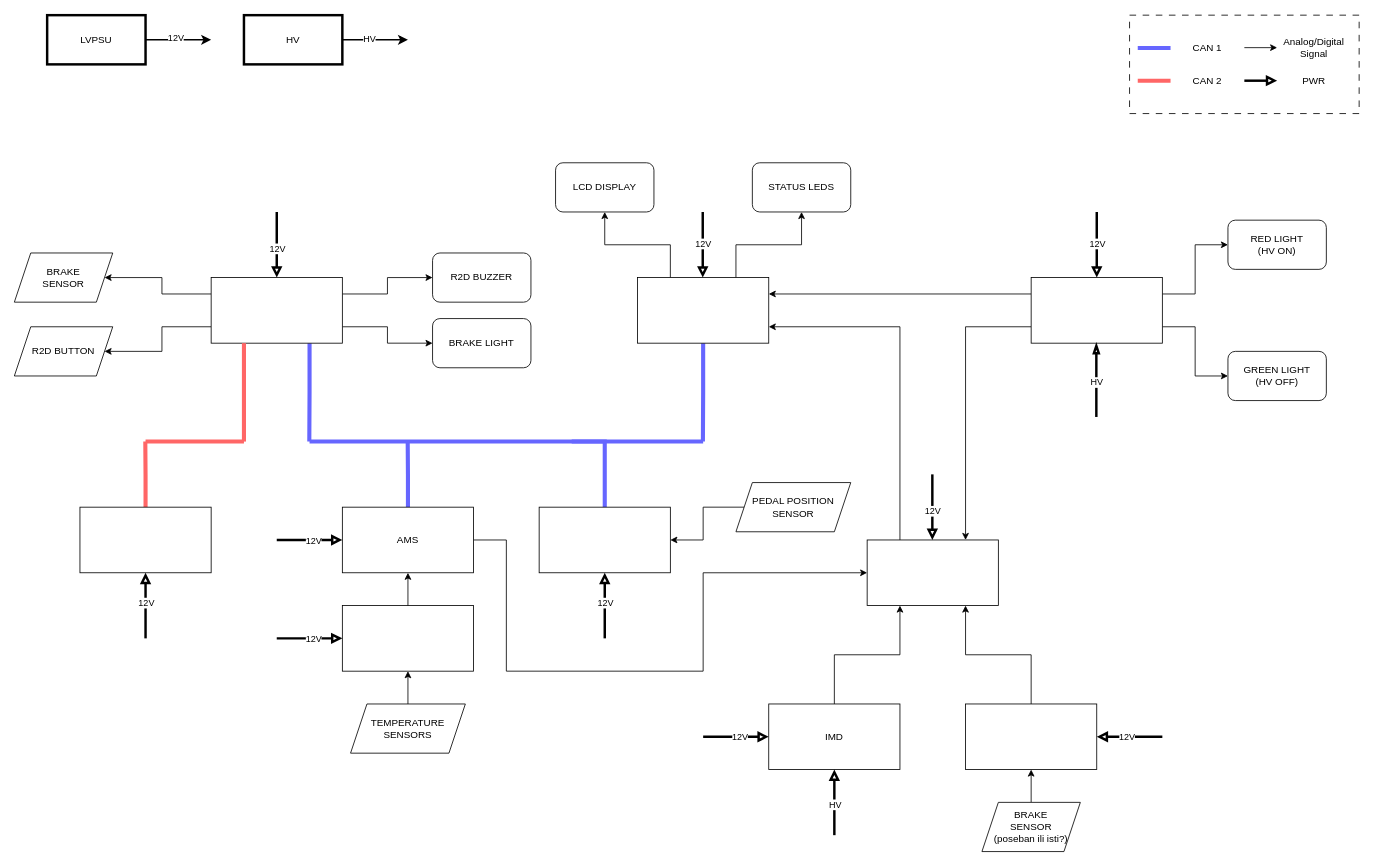
This 1374x866 diagram has some shape labels left out. The box of each missing label's shape, as (x1, y1, x2, y2) in pixels:
APPS: (538, 506, 670, 573)
BSPD: (965, 703, 1097, 770)
DRIVER INDICATOR: (637, 277, 769, 343)
ECU: (210, 277, 342, 343)
MOTOR CONTROLLER: (79, 506, 211, 573)
SDC: (866, 539, 998, 606)
TEMPERATURE SENSING: (342, 605, 474, 671)
TSAL: (1030, 277, 1162, 343)
